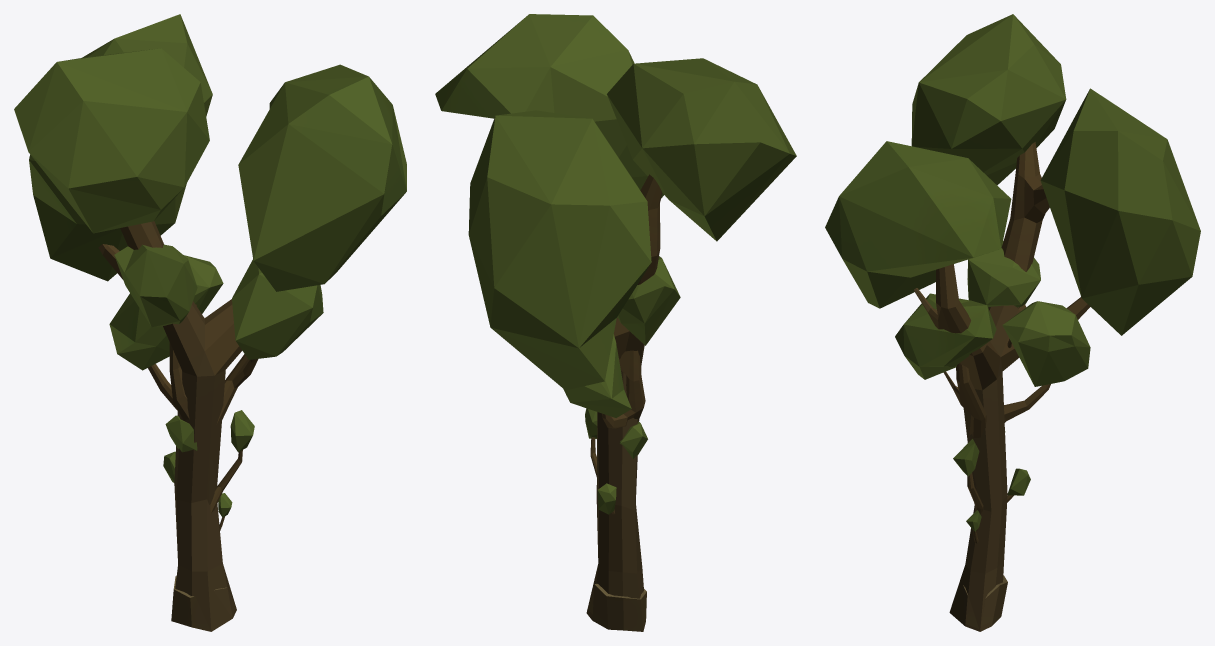
The model's file is tree2V1.fbx.
3 renders of one model, left to right at view 1: azimuth 30°, elevation 25°; view 2: azimuth 150°, elevation 25°; view 3: azimuth 270°, elevation 25°, orthographic. The views are drawn at different scales.
Visible parts, largest first — view 1: Tree2, Tree2Stage3, Tree2Stage2, Tree2Stub; view 2: Tree2, Tree2Stage3, Tree2Stub, Tree2Stage2; view 3: Tree2, Tree2Stage3, Tree2Stage2, Tree2Stub.
Part boxes in pixels (x1,y1,x2,y2): Tree2: (14, 14, 406, 631); Tree2Stage3: (109, 244, 323, 504); Tree2Stage2: (163, 410, 254, 513); Tree2Stub: (171, 576, 236, 631); Tree2: (435, 14, 796, 631); Tree2Stage3: (563, 256, 680, 429); Tree2Stub: (588, 583, 646, 631); Tree2Stage2: (585, 408, 647, 514); Tree2: (825, 14, 1200, 631); Tree2Stage3: (895, 241, 1090, 508); Tree2Stage2: (953, 431, 1030, 514); Tree2Stub: (950, 575, 1007, 631).
Size of what is drawn, in the model's own units: 300 by 463 by 290.
